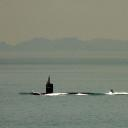submarine: (33, 71, 115, 96)
